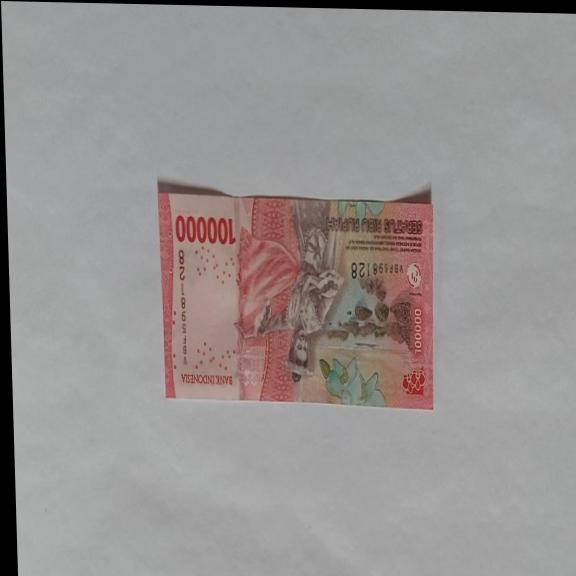Kertas: (156, 186, 439, 410), (174, 212, 236, 248)
